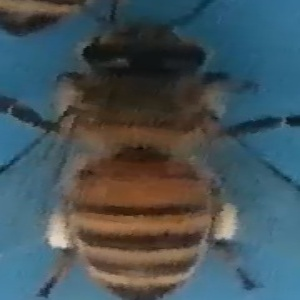bee: (45, 20, 297, 300)
